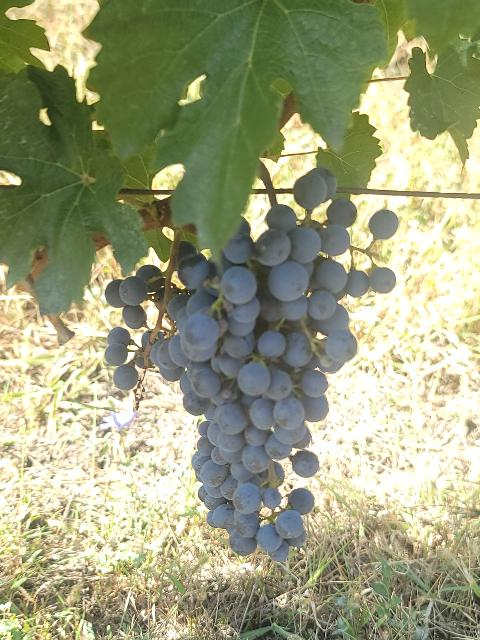grapes: (106, 242, 319, 560), (220, 199, 396, 421)
